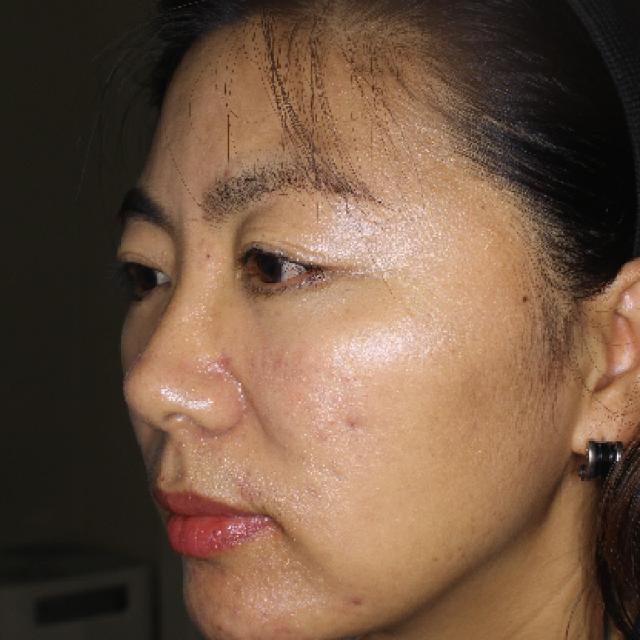acne: (336, 403, 371, 440), (336, 586, 372, 618), (510, 284, 536, 316)
